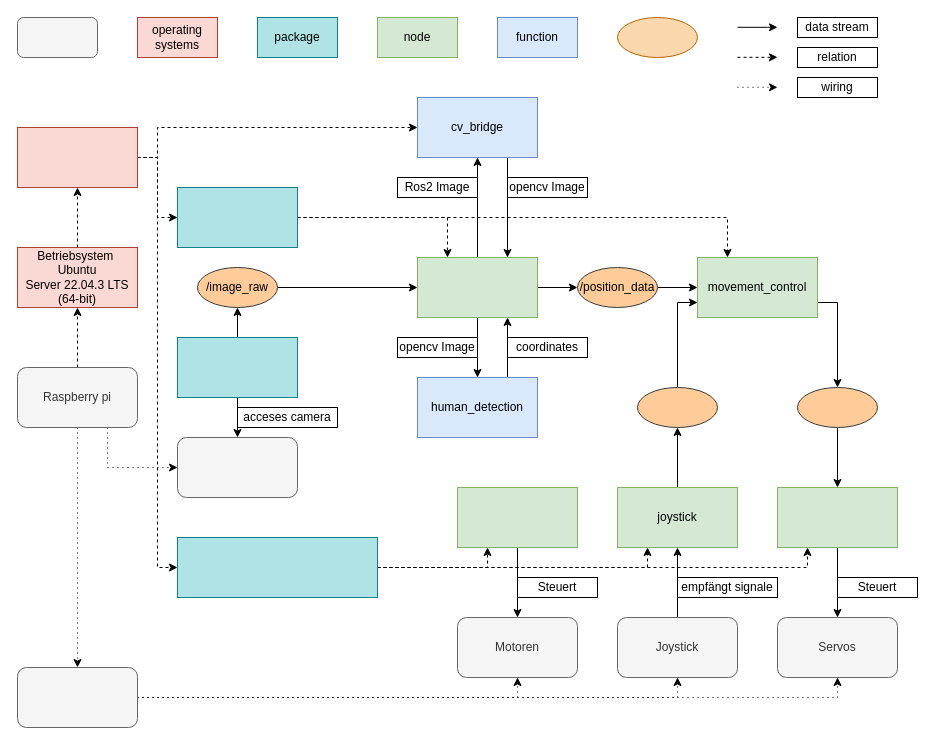
Image size: 935x745. Some labels were removed from this diagram. Here are the shapes that lost their labels. From the top down, the centre of each, then its label:
At (x=57, y=37): "Hardware".
At (x=657, y=37): "topics".
At (x=77, y=157): "Ros2 humble".
At (x=237, y=217): "camera_package".
At (x=477, y=287): "camera_opencv".
At (x=237, y=367): "ros2_v4ls_camera".
At (x=677, y=407): "/joystick".
At (x=837, y=407): "/servo".
At (x=237, y=467): "Kammera".
At (x=517, y=517): "motion".
At (x=837, y=517): "pan_tilt".
At (x=277, y=567): "ros2_for_waveshare_alphabot2".
At (x=77, y=697): "Alphabot 2".
